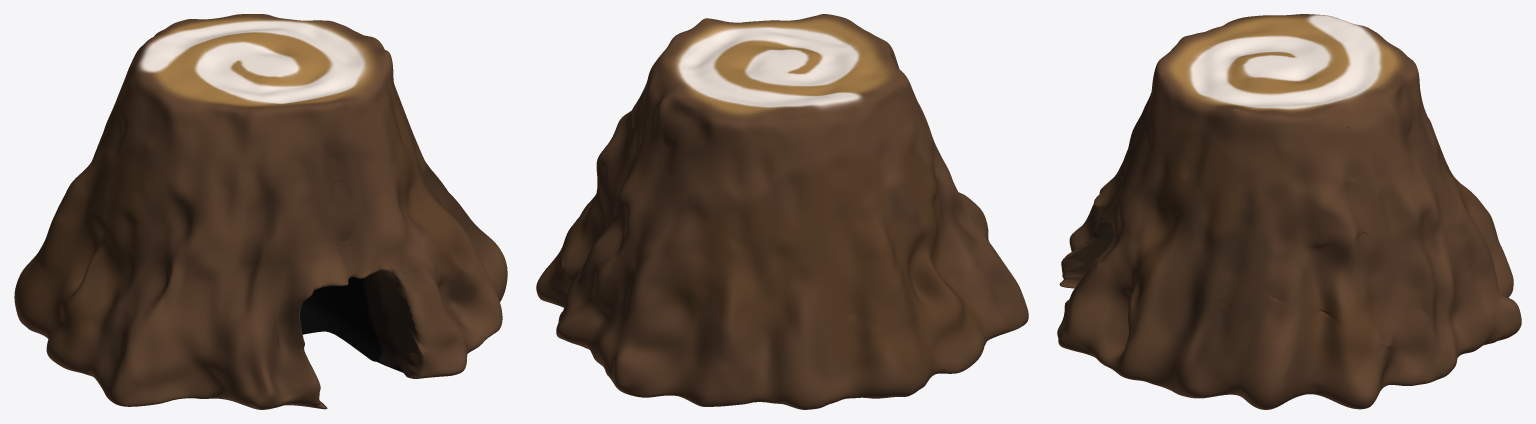
Rendered from WeaponCreator.fbx.
3 views of the same model, side by side, from view 1: azimuth 30°, elevation 25°; view 2: azimuth 150°, elevation 25°; view 3: azimuth 270°, elevation 25° (orthographic). The views are drawn at different scales.
Parts seen in each view (by area): view 1: Cylinder; view 2: Cylinder; view 3: Cylinder.
Part boxes in pixels (x1,y1,x2,y2): Cylinder: (14,14,507,409); Cylinder: (536,14,1028,409); Cylinder: (1057,14,1521,409).
Bounding box in the file's own units: 372 × 226 × 370.
1 material, 1 textured.
